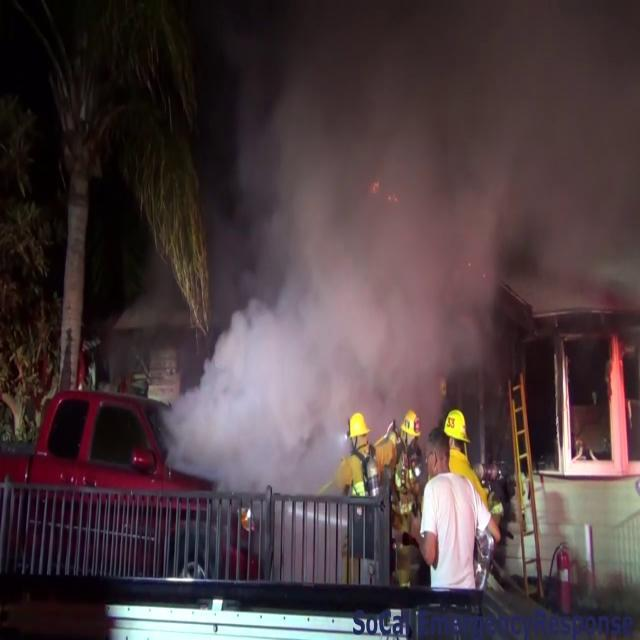Smoke: (170, 0, 638, 482)
